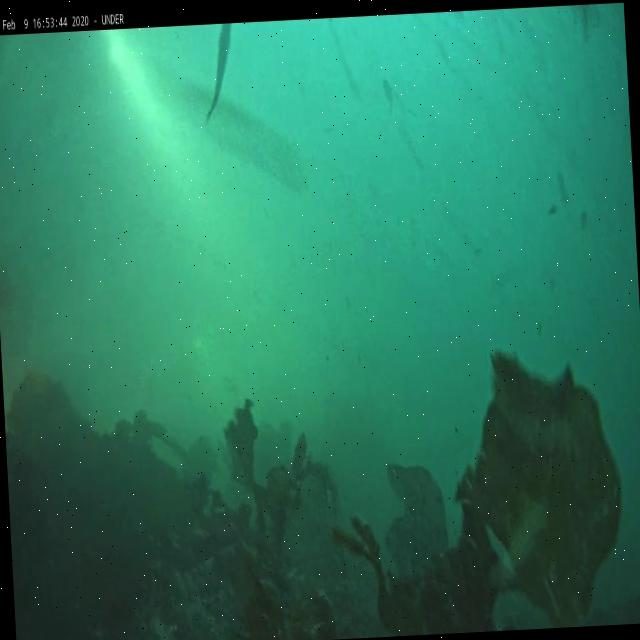fish: (202, 24, 239, 126)
